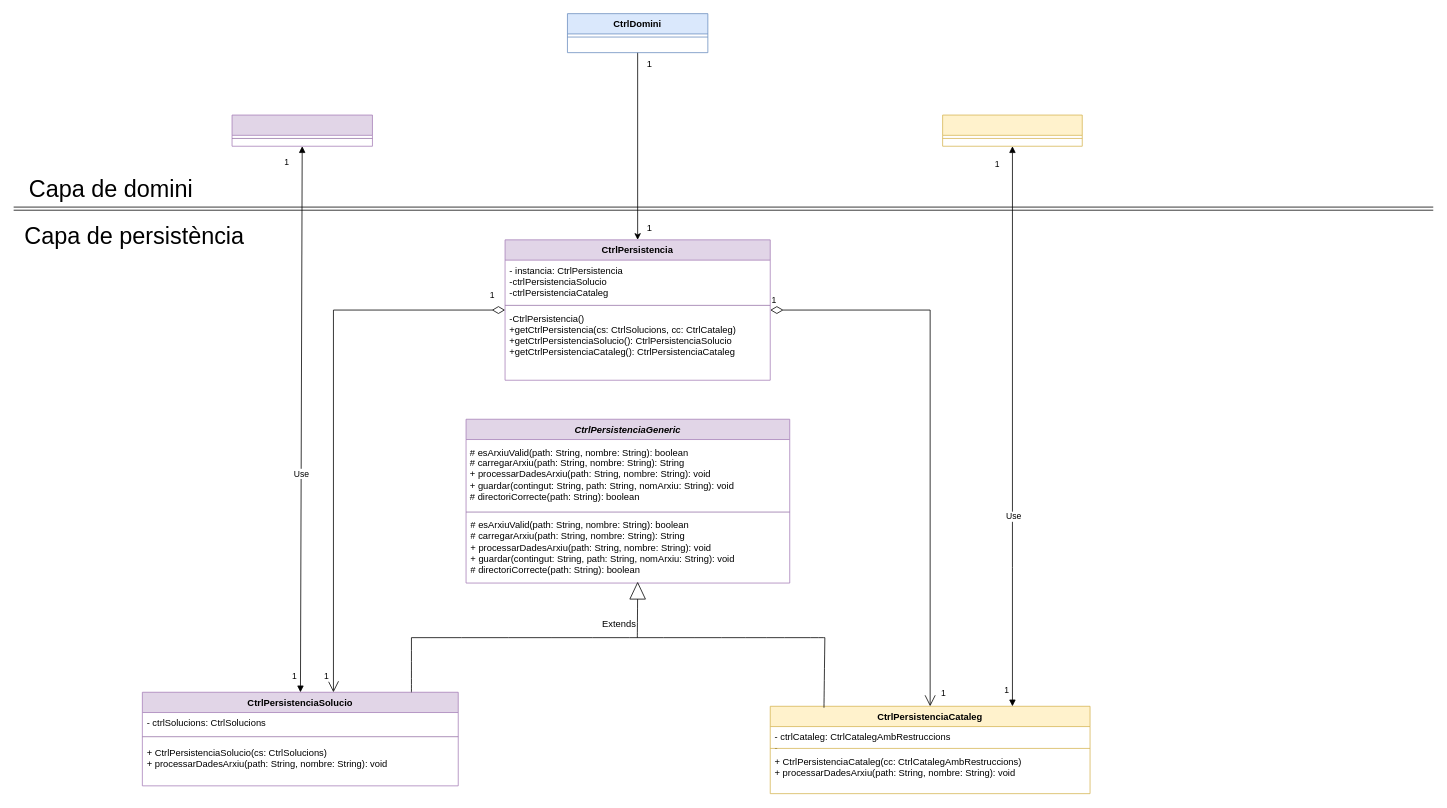
The diagram is 1447 pixels wide and 808 high, and some of its shapes have lost their labels. Here are the shapes that lost their labels. From the top down, the box of each, then its label:
(231, 114, 372, 146): CtrlSolucions
(942, 114, 1082, 146): CtrlCatalegAmbRestriccions
